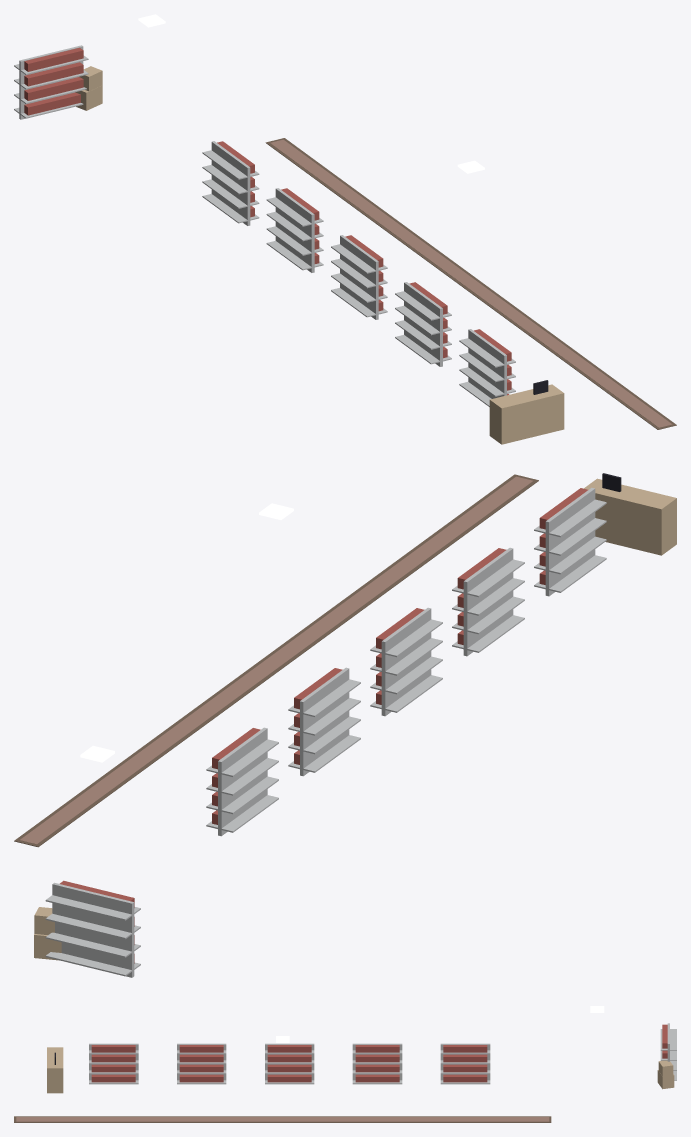
File: fine-s0.glb
The picture shows the model from 3 angles, top to bottom: view 1: azimuth 30°, elevation 25°; view 2: azimuth 150°, elevation 25°; view 3: azimuth 270°, elevation 25°; orthographic projection. The views are drawn at different scales.
Visible parts, largest first — view 1: soft-s0, shelving.000, shop-counter.000, shelf.001, shelf.002, shelf.000, shelf.003, shelf.004, cardboard-box.000; view 2: soft-s0, shelving.000, shelf.003, shelf.004, shelf.002, shelf.001, shelf.000, shop-counter.000, cardboard-box.000; view 3: soft-s0, shelf.000, shelf.001, shelf.004, shelf.002, shelf.003, shop-counter.000, shelving.000, cardboard-box.000.
Part boxes in pixels (x1,y1,x2,y2): soft-s0: (265,138,676,429); shelving.000: (14,45,88,119); shop-counter.000: (489,380,564,444); shelf.001: (266,188,323,272); shelf.002: (331,235,387,319); shelf.000: (202,141,259,225); shelf.003: (395,282,451,366); shelf.004: (459,329,515,406); cardboard-box.000: (75,66,102,110); soft-s0: (14,474,538,847); shelving.000: (45,880,140,977); shelf.003: (452,547,524,656); shelf.004: (534,487,606,596); shelf.002: (370,607,442,716); shelf.001: (288,667,360,776); shelf.000: (206,727,278,836); shop-counter.000: (584,473,676,555); cardboard-box.000: (34,907,61,960); soft-s0: (14,1116,551,1122); shelf.000: (440,1043,490,1084); shelf.001: (352,1043,402,1084); shelf.004: (89,1043,138,1084); shelf.002: (265,1043,314,1084); shelf.003: (177,1043,226,1084); shop-counter.000: (47,1047,63,1093); shelving.000: (660,1023,676,1080); cardboard-box.000: (657,1060,674,1089).
Bounding box in the file's own units: 5.15 × 3.24 × 24.13.
